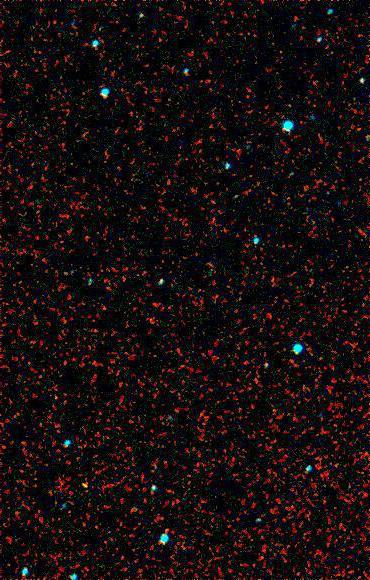star: (71, 468, 101, 498)
